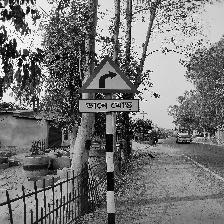Right-turn: (77, 56, 140, 114)
